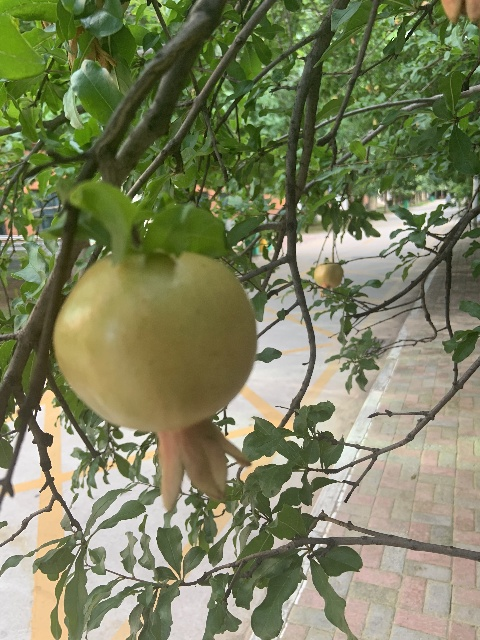mid-growth: (53, 247, 259, 513), (313, 263, 341, 297)
